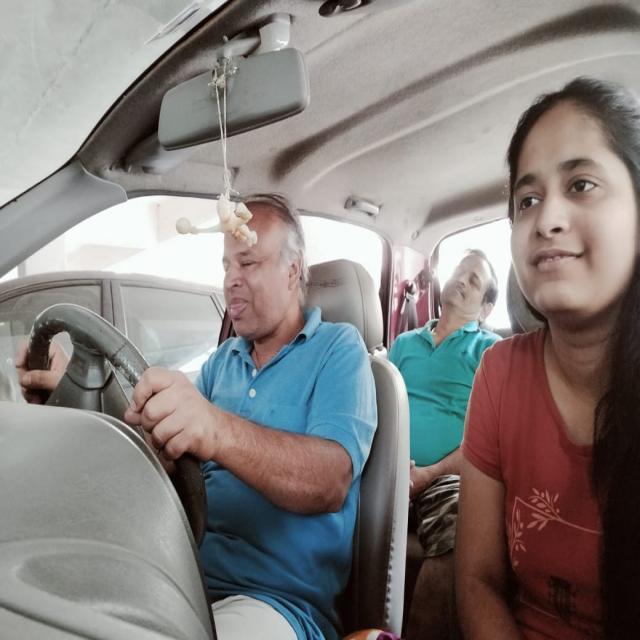drowsy: (215, 226, 302, 340)
person: (498, 112, 640, 324), (440, 242, 500, 318)
